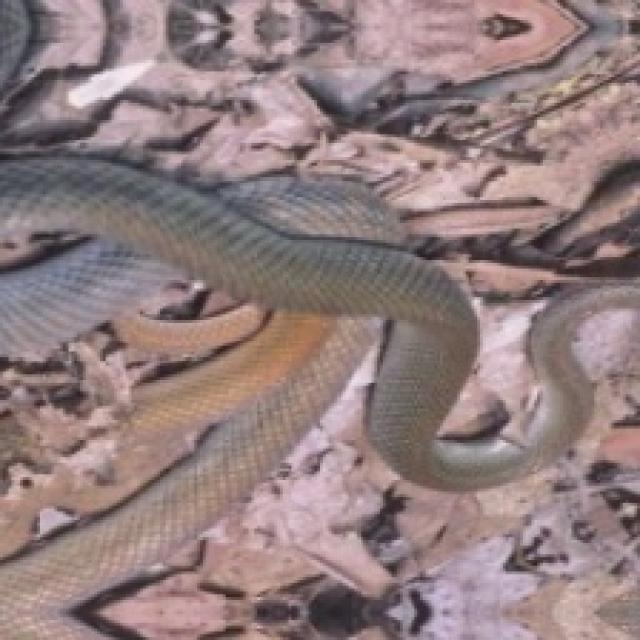reddish rat snake: (0, 159, 640, 640), (0, 157, 637, 489), (0, 240, 182, 358)
